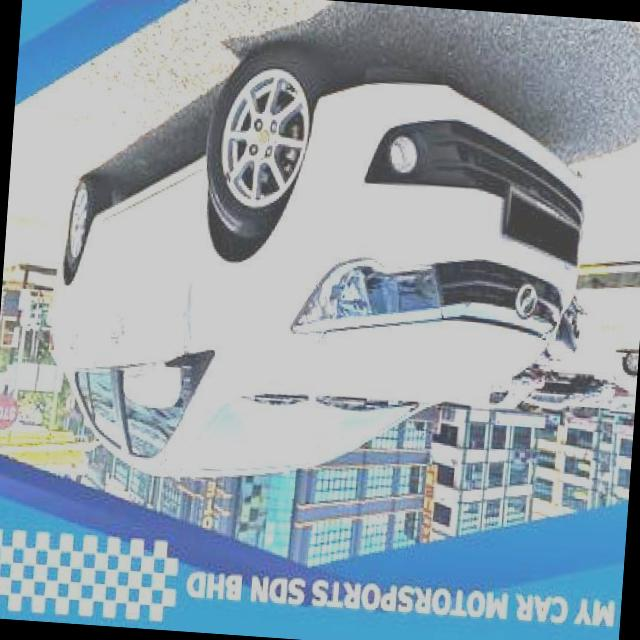PeroduaBezza: (36, 29, 598, 508)
